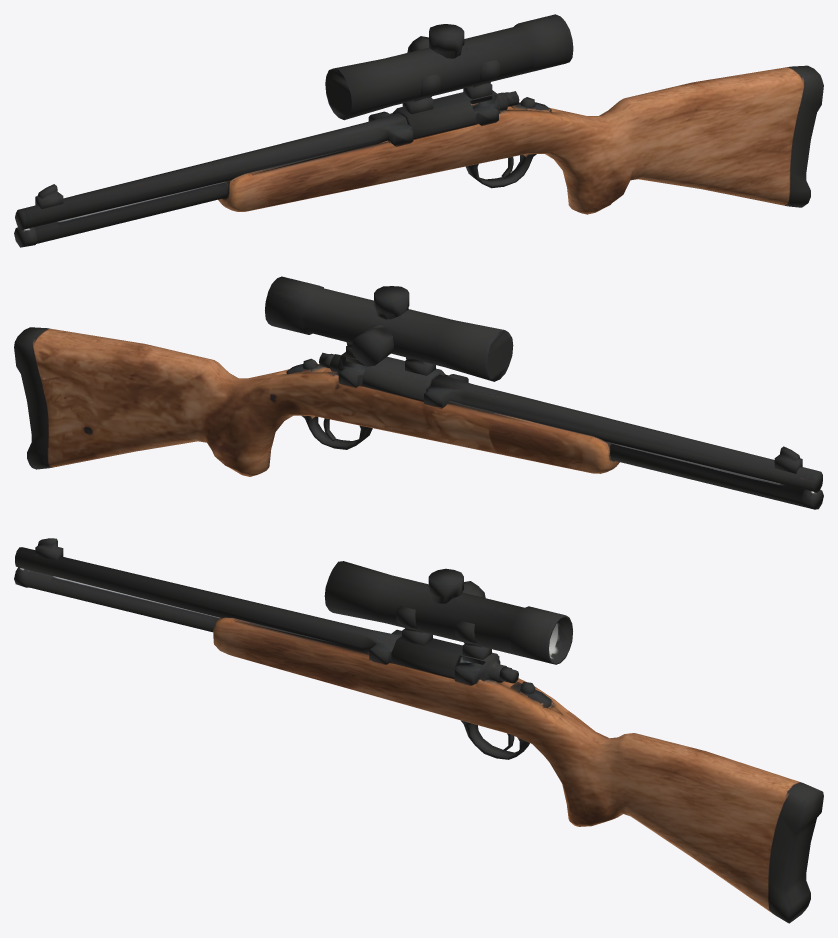
File: rifle.glb
3 views of the same model, one above another, from view 1: azimuth 30°, elevation 25°; view 2: azimuth 150°, elevation 25°; view 3: azimuth 330°, elevation 25° (orthographic).
Visible parts, largest first — view 1: tripo_node_9baac638-b605-448f-8883-4c88dce51d3f; view 2: tripo_node_9baac638-b605-448f-8883-4c88dce51d3f; view 3: tripo_node_9baac638-b605-448f-8883-4c88dce51d3f.
Boxes of the visible parts, <box> form: tripo_node_9baac638-b605-448f-8883-4c88dce51d3f: <box>14,14,823,247</box>; tripo_node_9baac638-b605-448f-8883-4c88dce51d3f: <box>14,276,823,509</box>; tripo_node_9baac638-b605-448f-8883-4c88dce51d3f: <box>14,538,823,923</box>.
Size of the model in its own units: 0.998 by 0.3105 by 0.084.
Materials: 1 (1 with a texture image).
